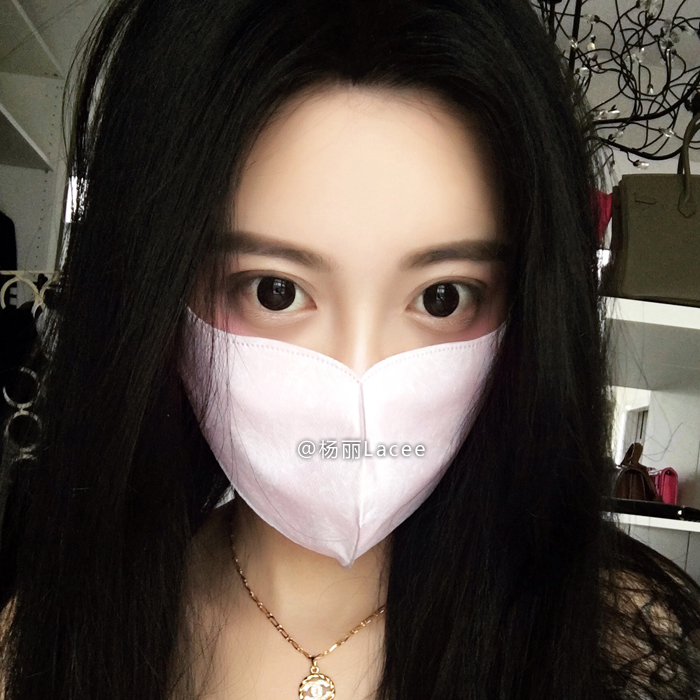face_mask: (186, 98, 515, 550)
